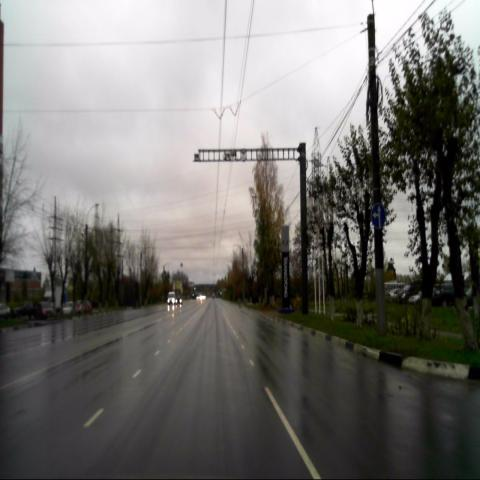4_1_5: (371, 204, 385, 228)
